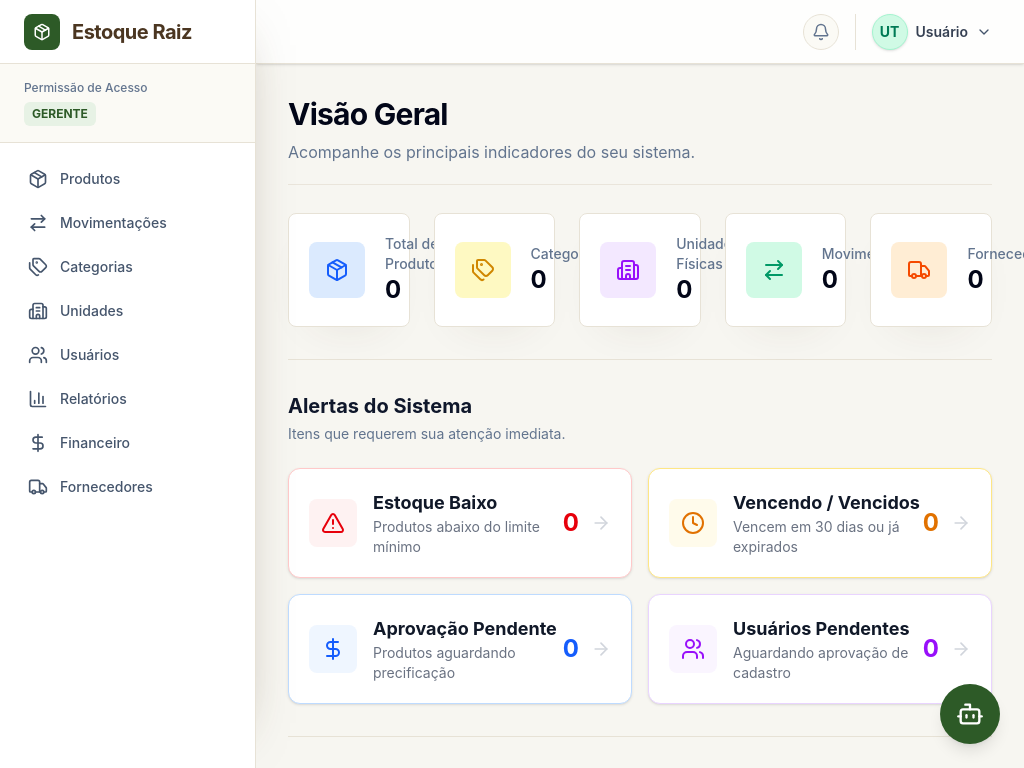
Test: Dashboard e Controle de Acesso (RBAC) › Modal de Perfil › Deve habilitar edição do nome ao clicar em "Editar Nome"
This screenshot has width=1024, height=768.
Click the button with test id "menu-usuario-btn" at (933, 32), box [872, 14, 993, 50]
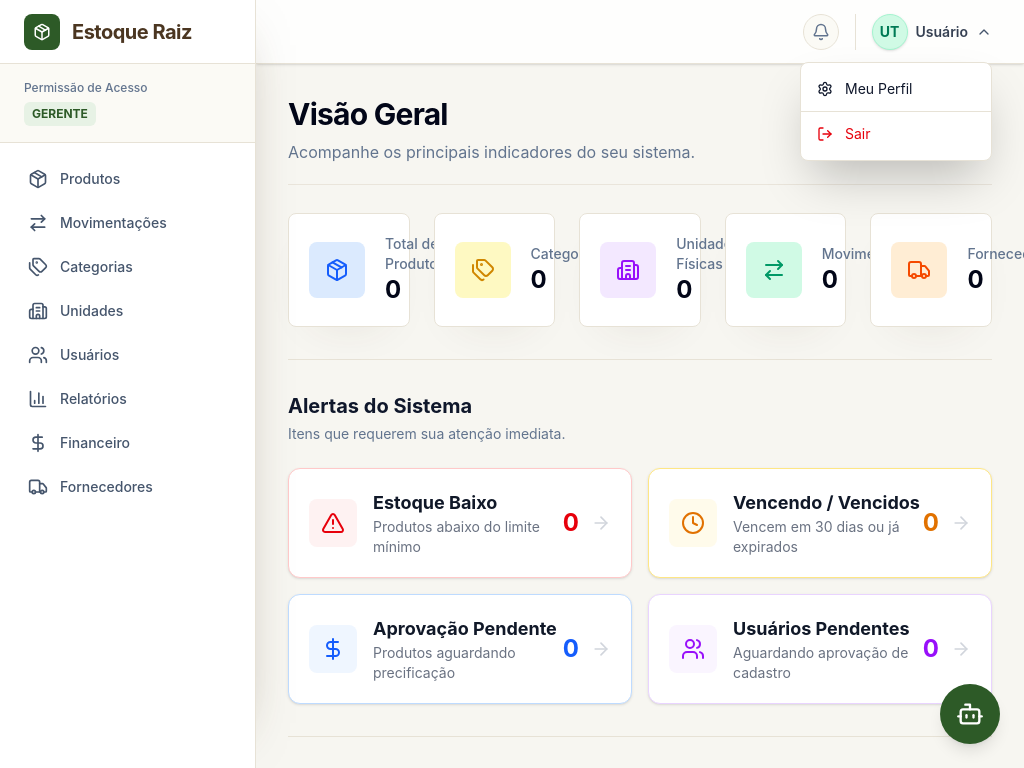
Click the button "Meu Perfil" at (896, 89), box [801, 71, 991, 107]
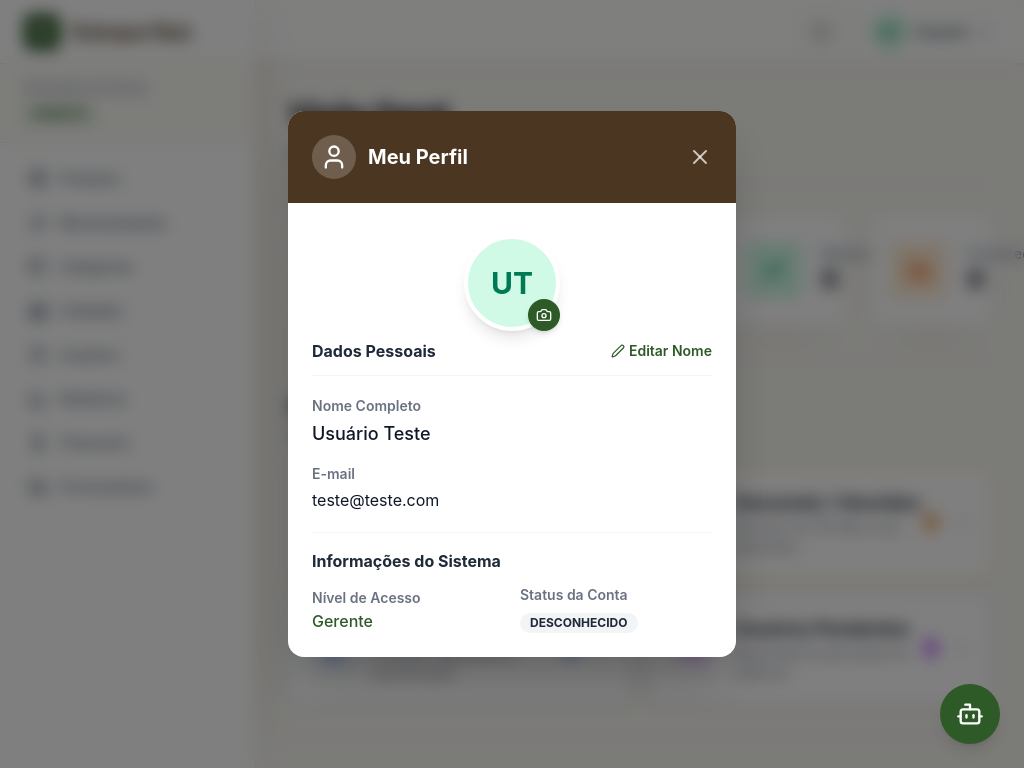
Click the button "Editar Nome" at (662, 351), box [611, 341, 712, 361]
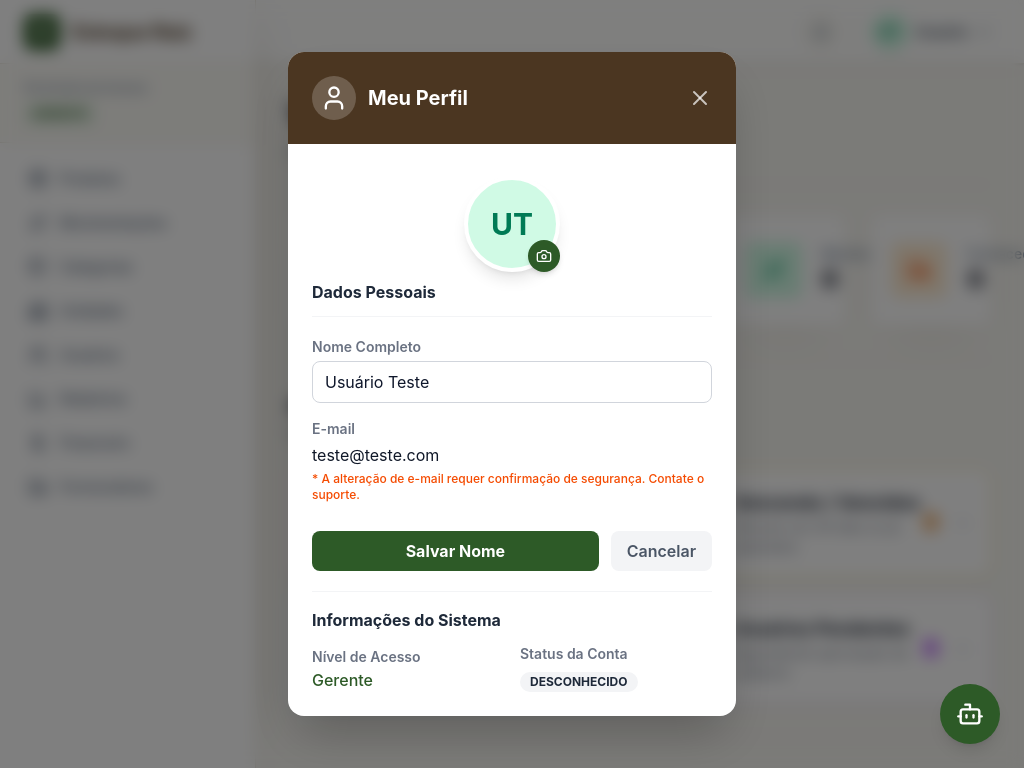
Now the field with placeholder "Seu nome" holds "Usuário Teste", box [312, 361, 712, 403]
